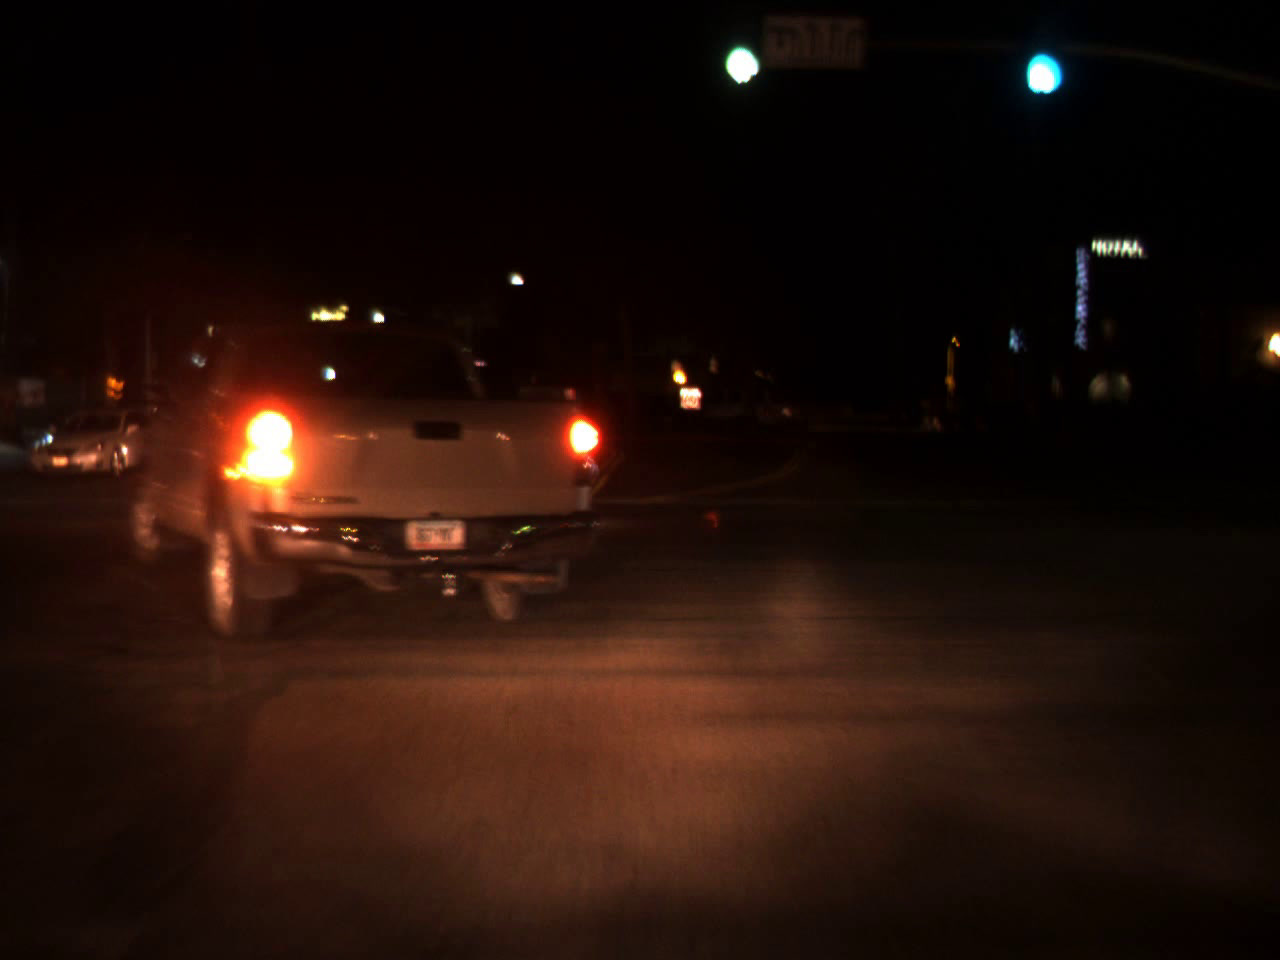go: (1018, 25, 1061, 103), (715, 26, 760, 83)
